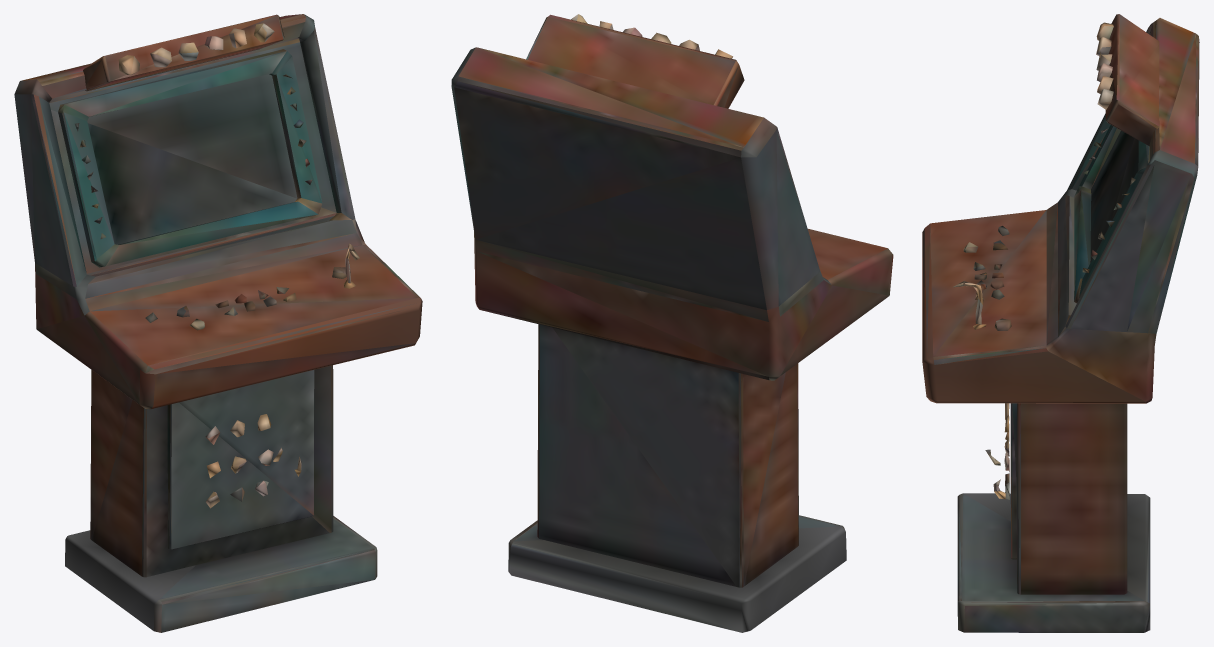
The model's file is sci-fi-console.lod2.glb.
3 renders of one model, left to right at view 1: azimuth 30°, elevation 25°; view 2: azimuth 150°, elevation 25°; view 3: azimuth 270°, elevation 25°, orthographic. The views are drawn at different scales.
Size of the model in its own units: 0.6329 by 1.1 by 0.5274.
1 material, 1 textured.
